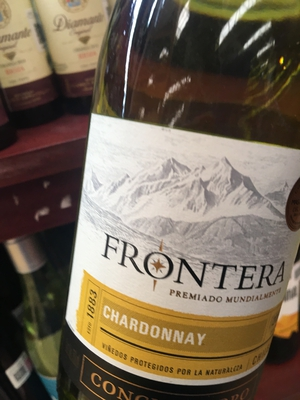frontera chardonnay: (60, 16, 284, 400)
